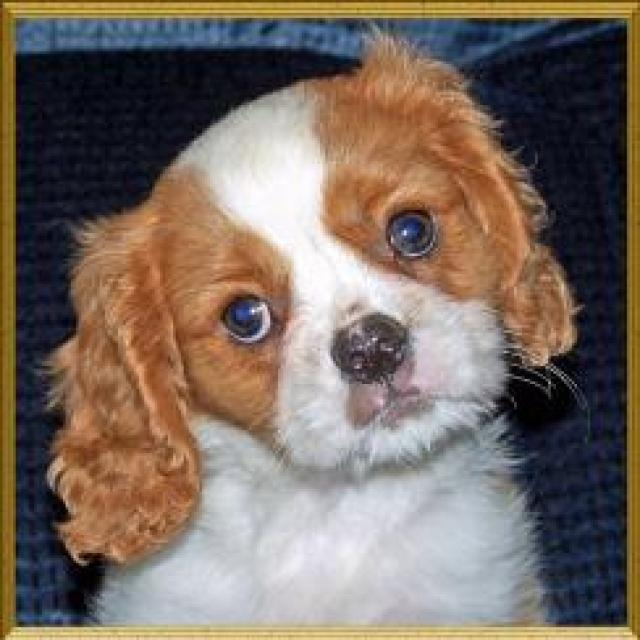blenheim_spaniel: (40, 20, 582, 638)
